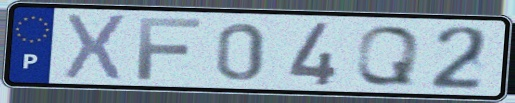0: (213, 21, 272, 82)
2: (427, 24, 491, 91)
4: (285, 19, 341, 88)
F: (134, 16, 204, 82)
Q: (352, 23, 423, 88)
X: (60, 11, 130, 84)
